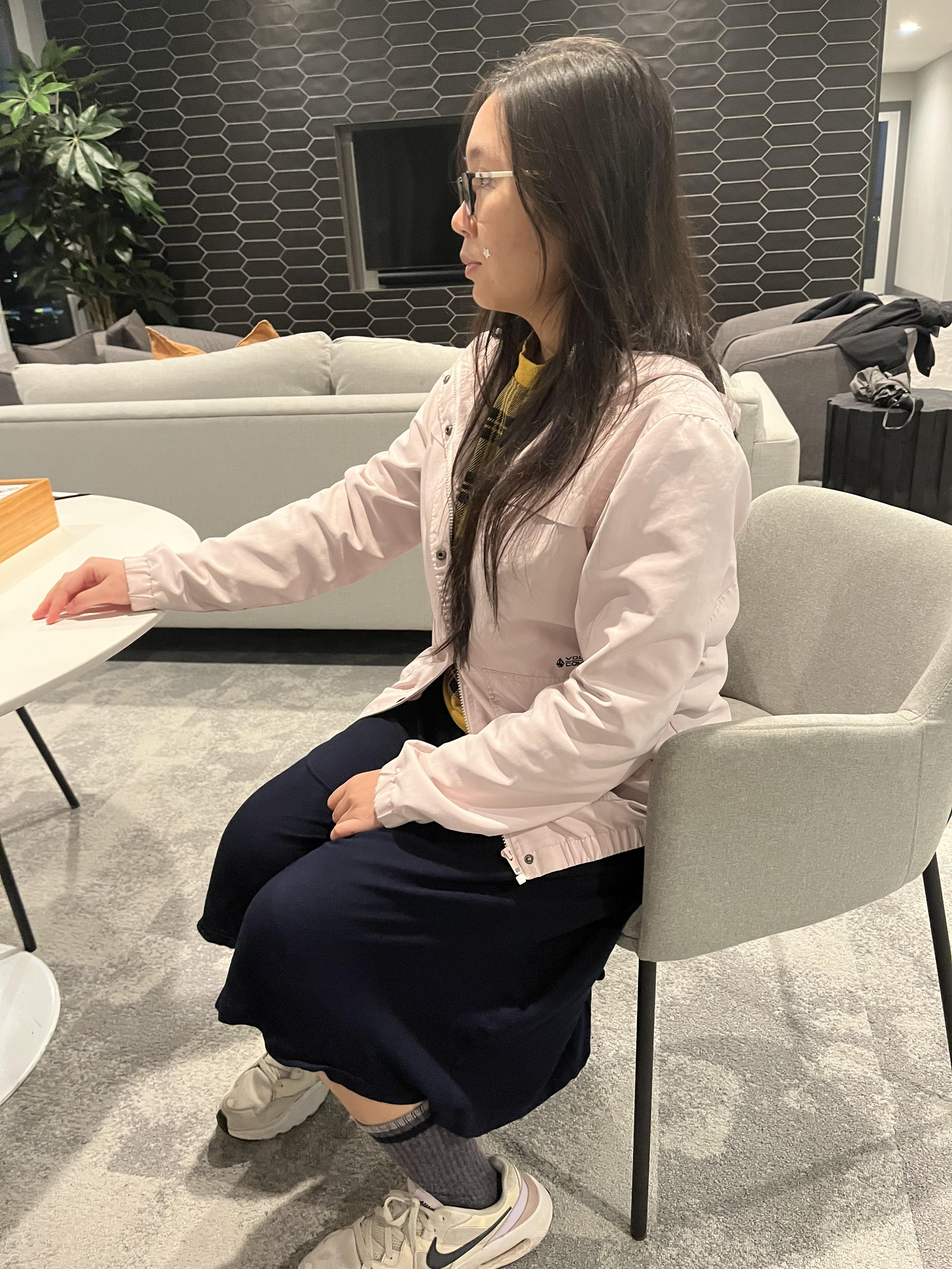GoodPosture: (31, 32, 753, 1267)
